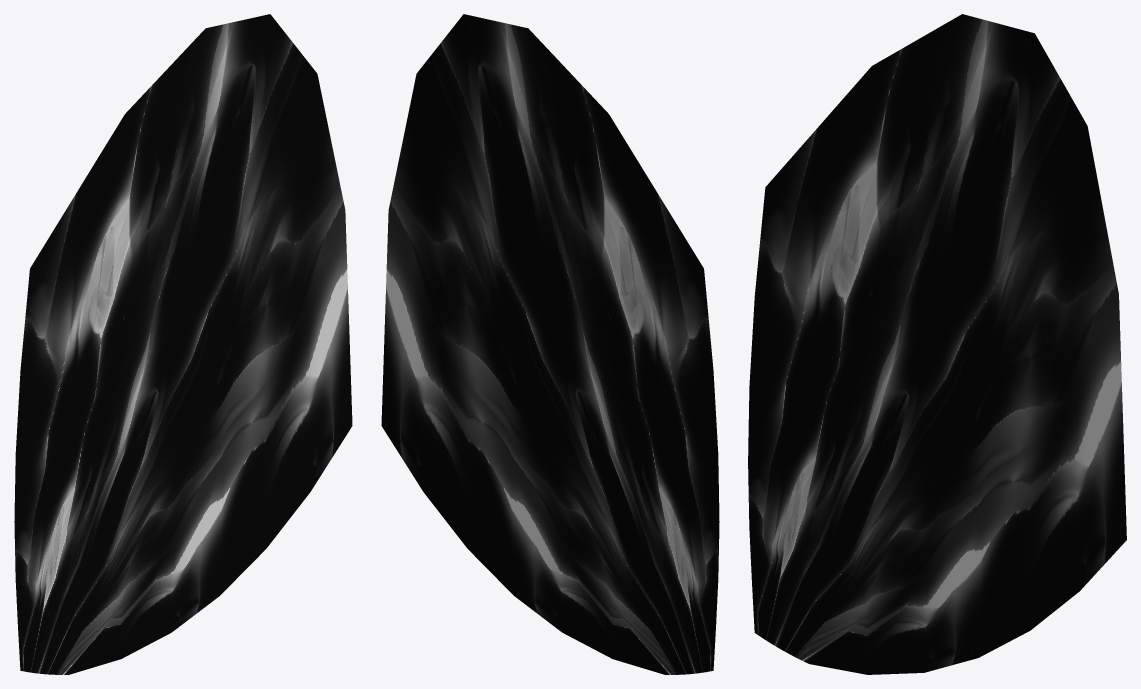
The model's file is Tmz_chi2.FBX.
3 views of the same model, side by side, from view 1: azimuth 30°, elevation 25°; view 2: azimuth 150°, elevation 25°; view 3: azimuth 330°, elevation 25° (orthographic). The views are drawn at different scales.
Visible parts, largest first — view 1: Plane004; view 2: Plane004; view 3: Plane004.
Boxes of the visible parts, x1=… form: Plane004: x1=14, y1=14, x2=352, y2=674; Plane004: x1=381, y1=14, x2=719, y2=674; Plane004: x1=748, y1=14, x2=1126, y2=674.
Bounding box in the file's own units: 40.48 × 70.18 × 8.36e-06.
